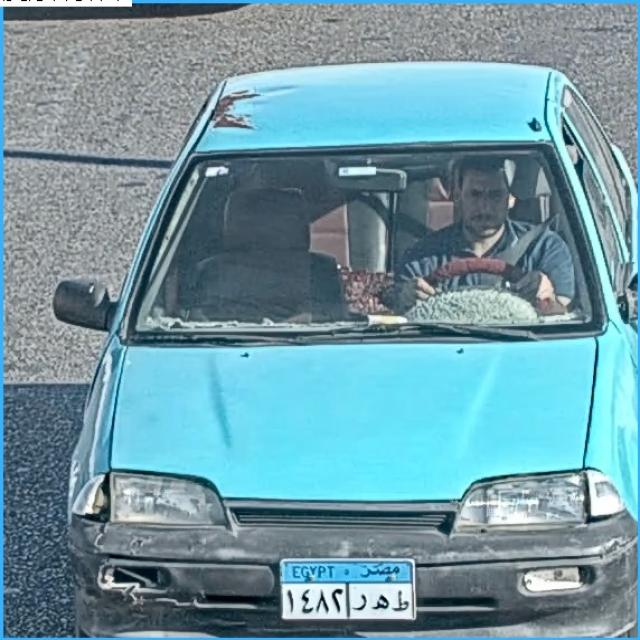windshield: (131, 147, 577, 339)
